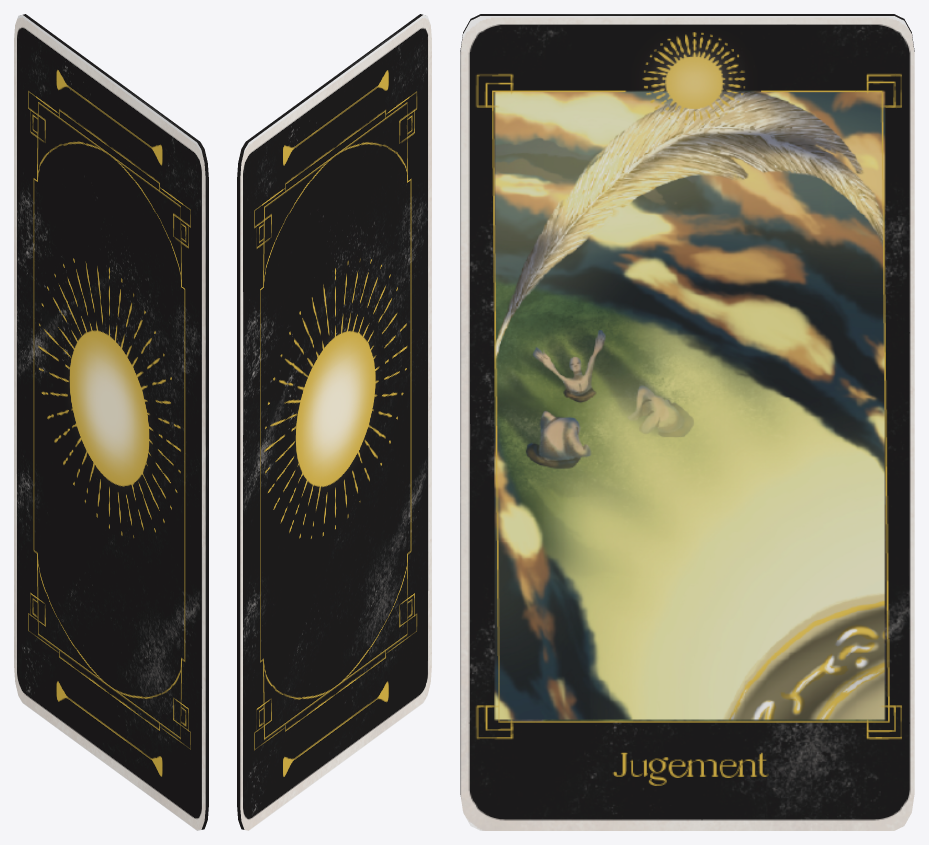
Rendered from jugement.gltf.
3 views of the same model, side by side, from view 1: azimuth 30°, elevation 25°; view 2: azimuth 150°, elevation 25°; view 3: azimuth 270°, elevation 25° (orthographic). The views are drawn at different scales.
Visible parts, largest first — view 1: 2 Batons; view 2: 2 Batons; view 3: 2 Batons.
Boxes of the visible parts, <box> form: 2 Batons: <box>14,14,208,830</box>; 2 Batons: <box>237,14,431,830</box>; 2 Batons: <box>460,14,914,830</box>.
Bounding box in the file's own units: 0.0191 × 3.96 × 2.
Materials: 1 (1 with a texture image).
